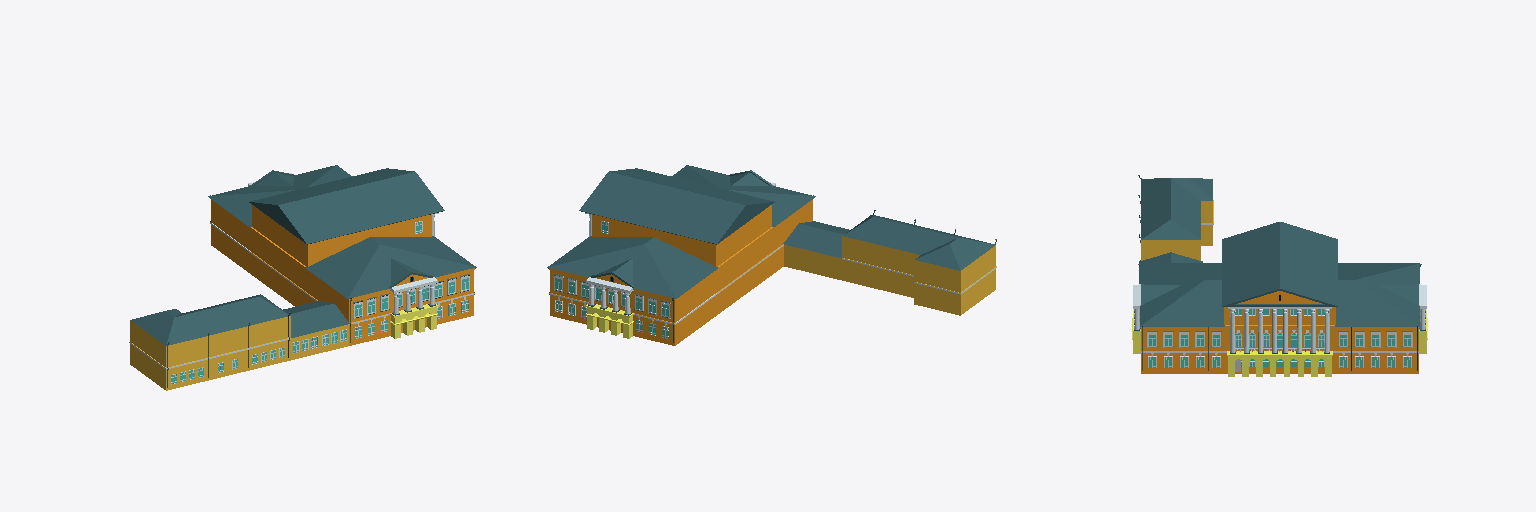
File: DomBorcheva.obj
3 renders of one model, left to right at view 1: azimuth 30°, elevation 25°; view 2: azimuth 150°, elevation 25°; view 3: azimuth 270°, elevation 25°, orthographic.
Visible parts, largest first — view 1: Plane.023; view 2: Plane.023; view 3: Plane.023.
Part boxes in pixels (x1,y1,x2,y2): Plane.023: (129, 165, 476, 390); Plane.023: (547, 165, 996, 345); Plane.023: (1132, 175, 1427, 376).
Size of the model in its own units: 7.28 by 1.97 by 5.85.